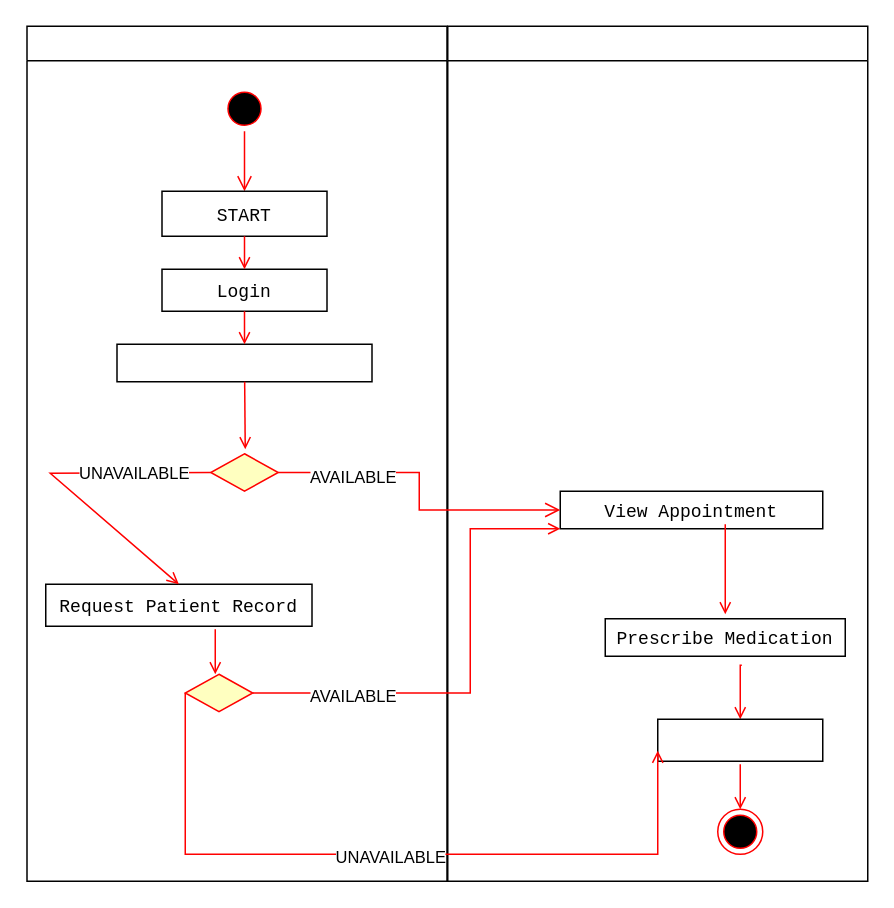
This 894x908 diagram has some shape labels left out. Here are the shapes that lost their labels. From the top down, the box of each, then its label:
(116, 343, 372, 382): Access Patient Records
(656, 718, 823, 761): END
